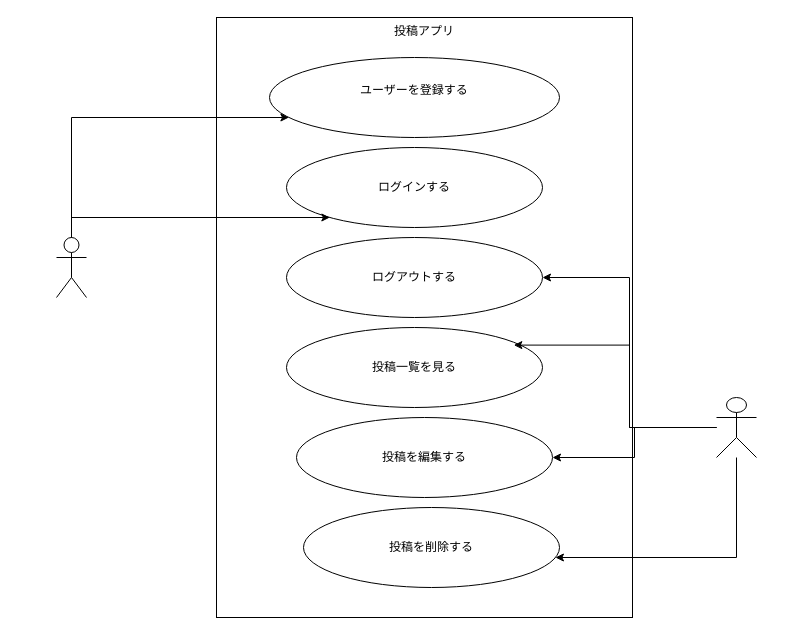
Some shapes in this 807 by 635 pixel diagram are drawn without their labels. Here are the shapes that lost their labels. From the top down, the centre of each, then its label:
At (71,267): "ログイン前ユーザー".
At (736,427): "ログイン済ユーザー".
